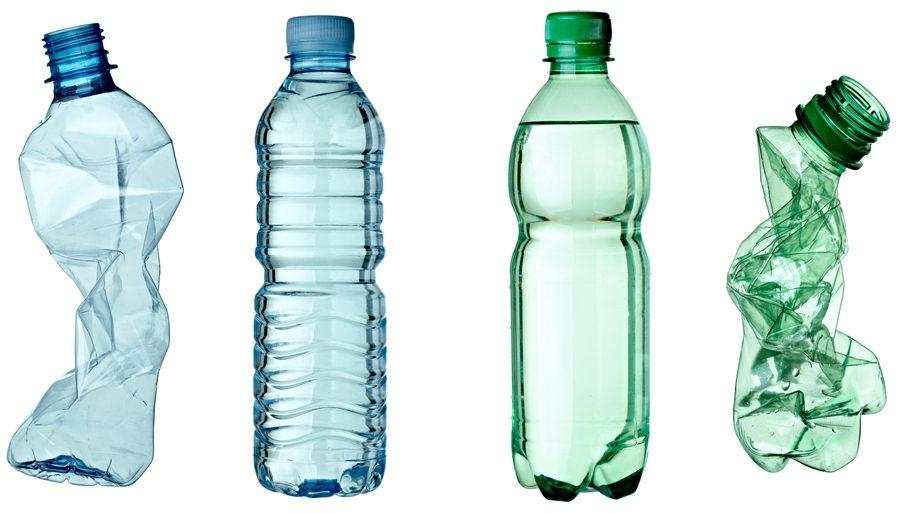paper: (0, 18, 196, 490), (509, 11, 650, 501), (723, 74, 891, 474), (252, 15, 386, 497)
